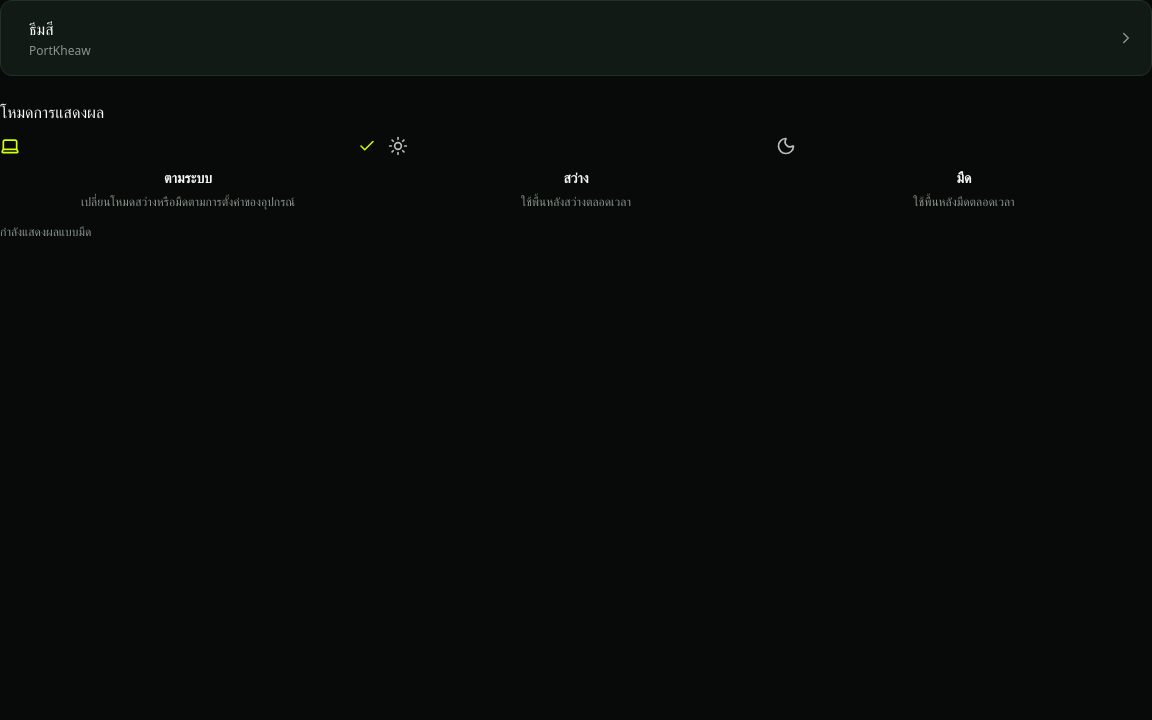
Scenario: a reader without the paid plan › asks for the upgrade instead of changing the theme, and leaves one dialog open
What coordinates should you click on to do the following:
click the button with test id "theme-row"
I would click on:
 (60, 50)
Its box is [0,0,1151,76].
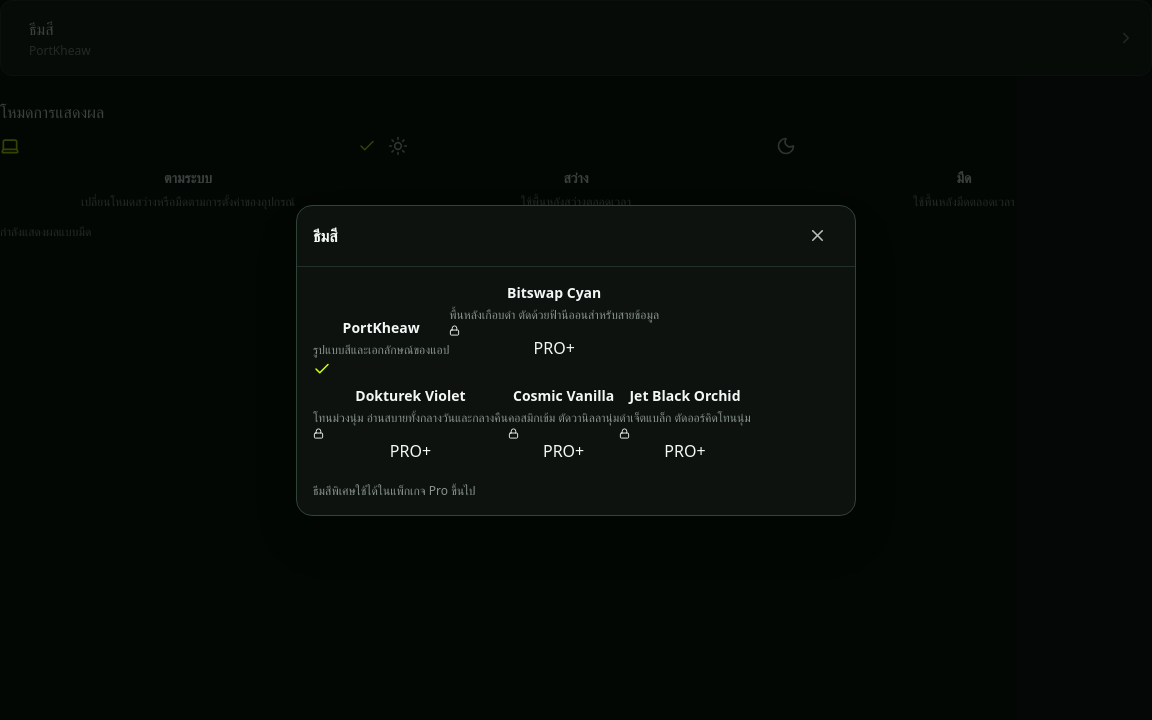
What coordinates should you click on to do the following:
click the button with aria-label "Bitswap Cyan — ล็อกอยู่ ต้องใช้แพ็กเกจ Pro ขึ้นไป"
I would click on:
 (554, 321)
Its box is [449,282,659,360].
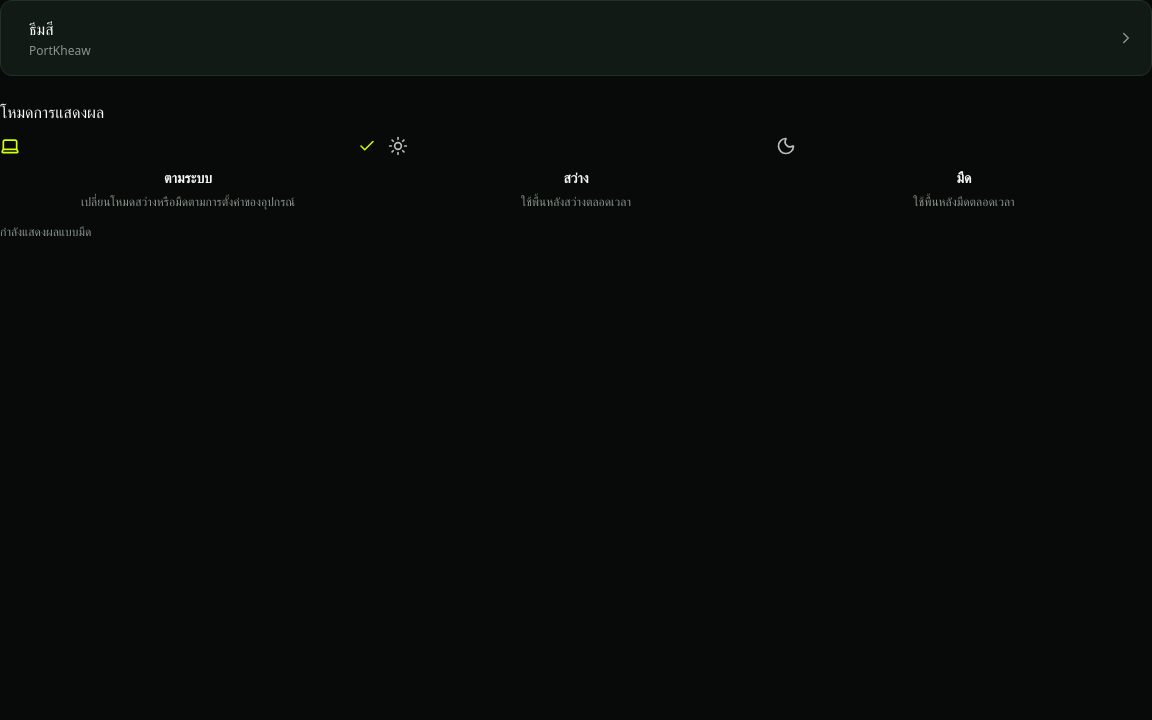
Now the dialog is gone
